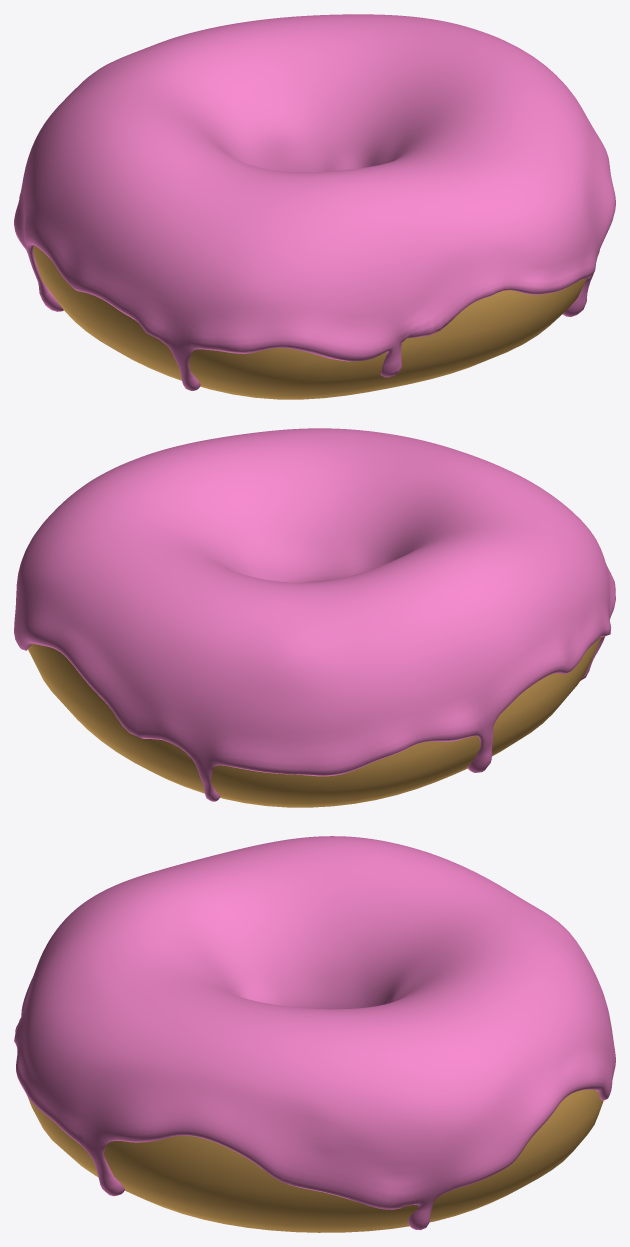
The model's file is donut.glb.
The picture shows the model from 3 angles, top to bottom: view 1: azimuth 30°, elevation 25°; view 2: azimuth 150°, elevation 25°; view 3: azimuth 270°, elevation 25°; orthographic projection. The views are drawn at different scales.
Parts seen in each view (by area): view 1: Icing, Dough; view 2: Icing, Dough; view 3: Icing, Dough.
Part boxes in pixels (box(x1,y1,x2,y2)): Icing: box(14, 14, 615, 390); Dough: box(33, 245, 599, 399); Icing: box(14, 428, 615, 801); Dough: box(28, 637, 601, 807); Icing: box(14, 836, 615, 1230); Dough: box(28, 1089, 603, 1232).
Size of the model in its own units: 1.97 by 0.8085 by 1.95.
Materials: 2 (2 with a texture image).
